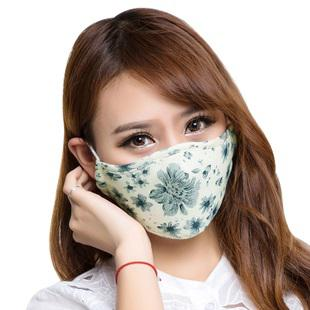OK: (99, 97, 237, 235)
